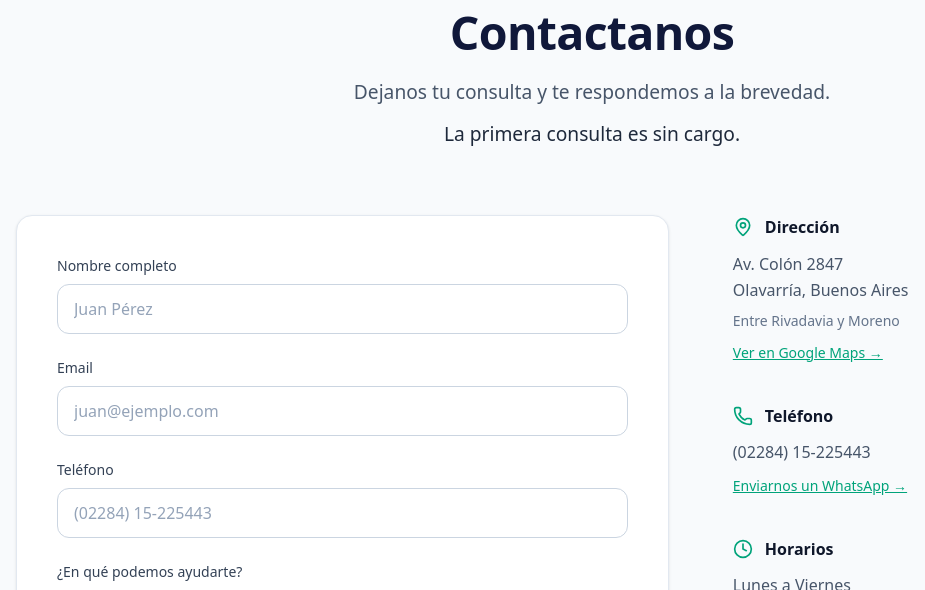
Contact integration › muestra error si el email es inválido
The image size is (925, 590).
Type "email-invalido" into the field labelled "Email" at (342, 411), box [57, 386, 628, 436]
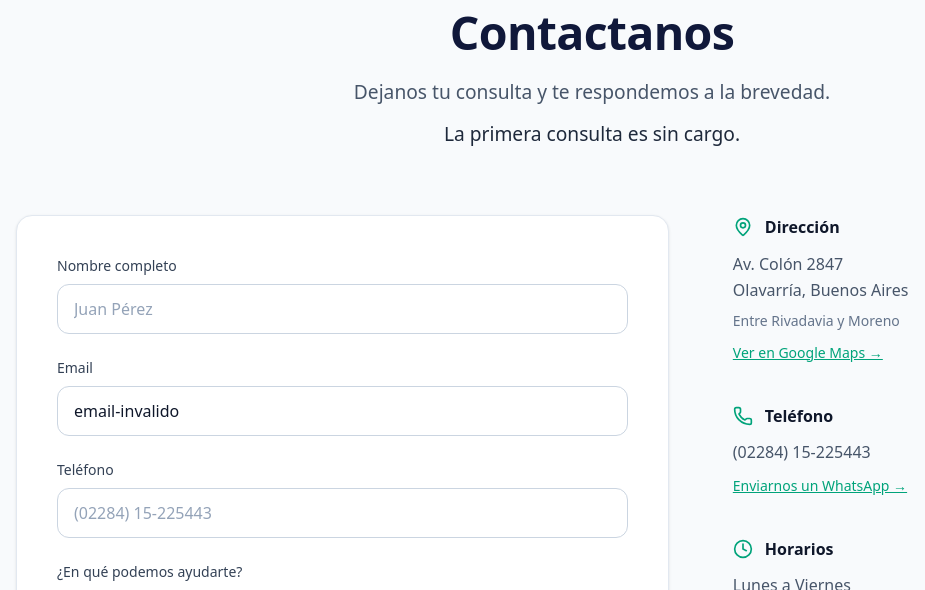
Leave the field labelled "Email", box [57, 386, 628, 436]
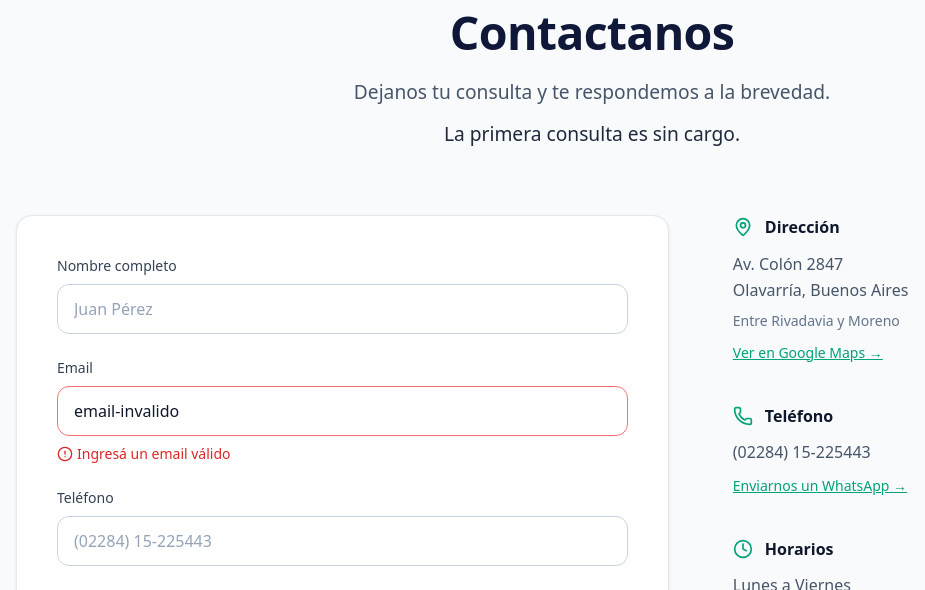
Now the message reads "Ingresá un email válido", box [77, 444, 230, 463]
